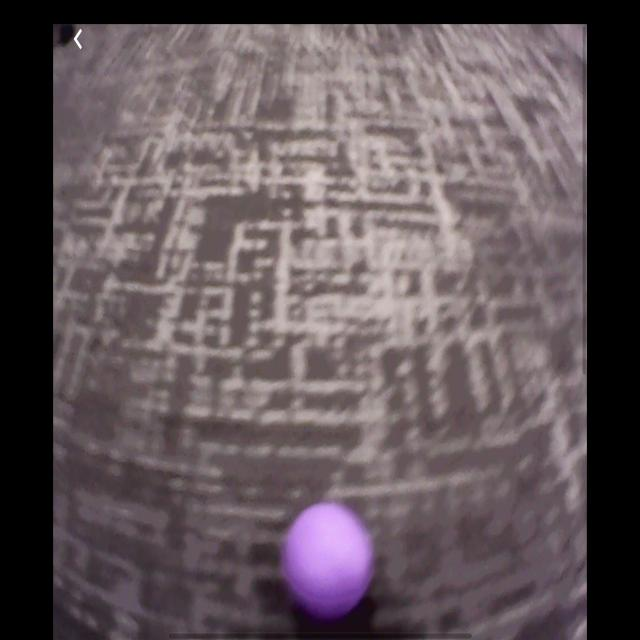ball: (285, 505, 372, 614)
